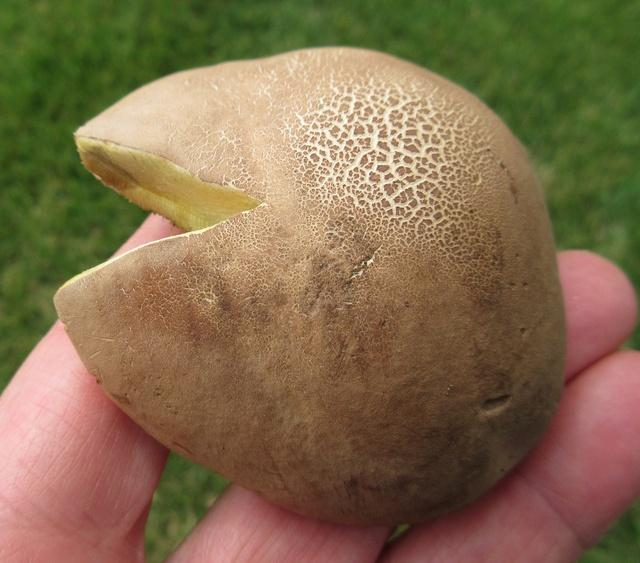Edible Mushroom: (52, 43, 569, 527)
